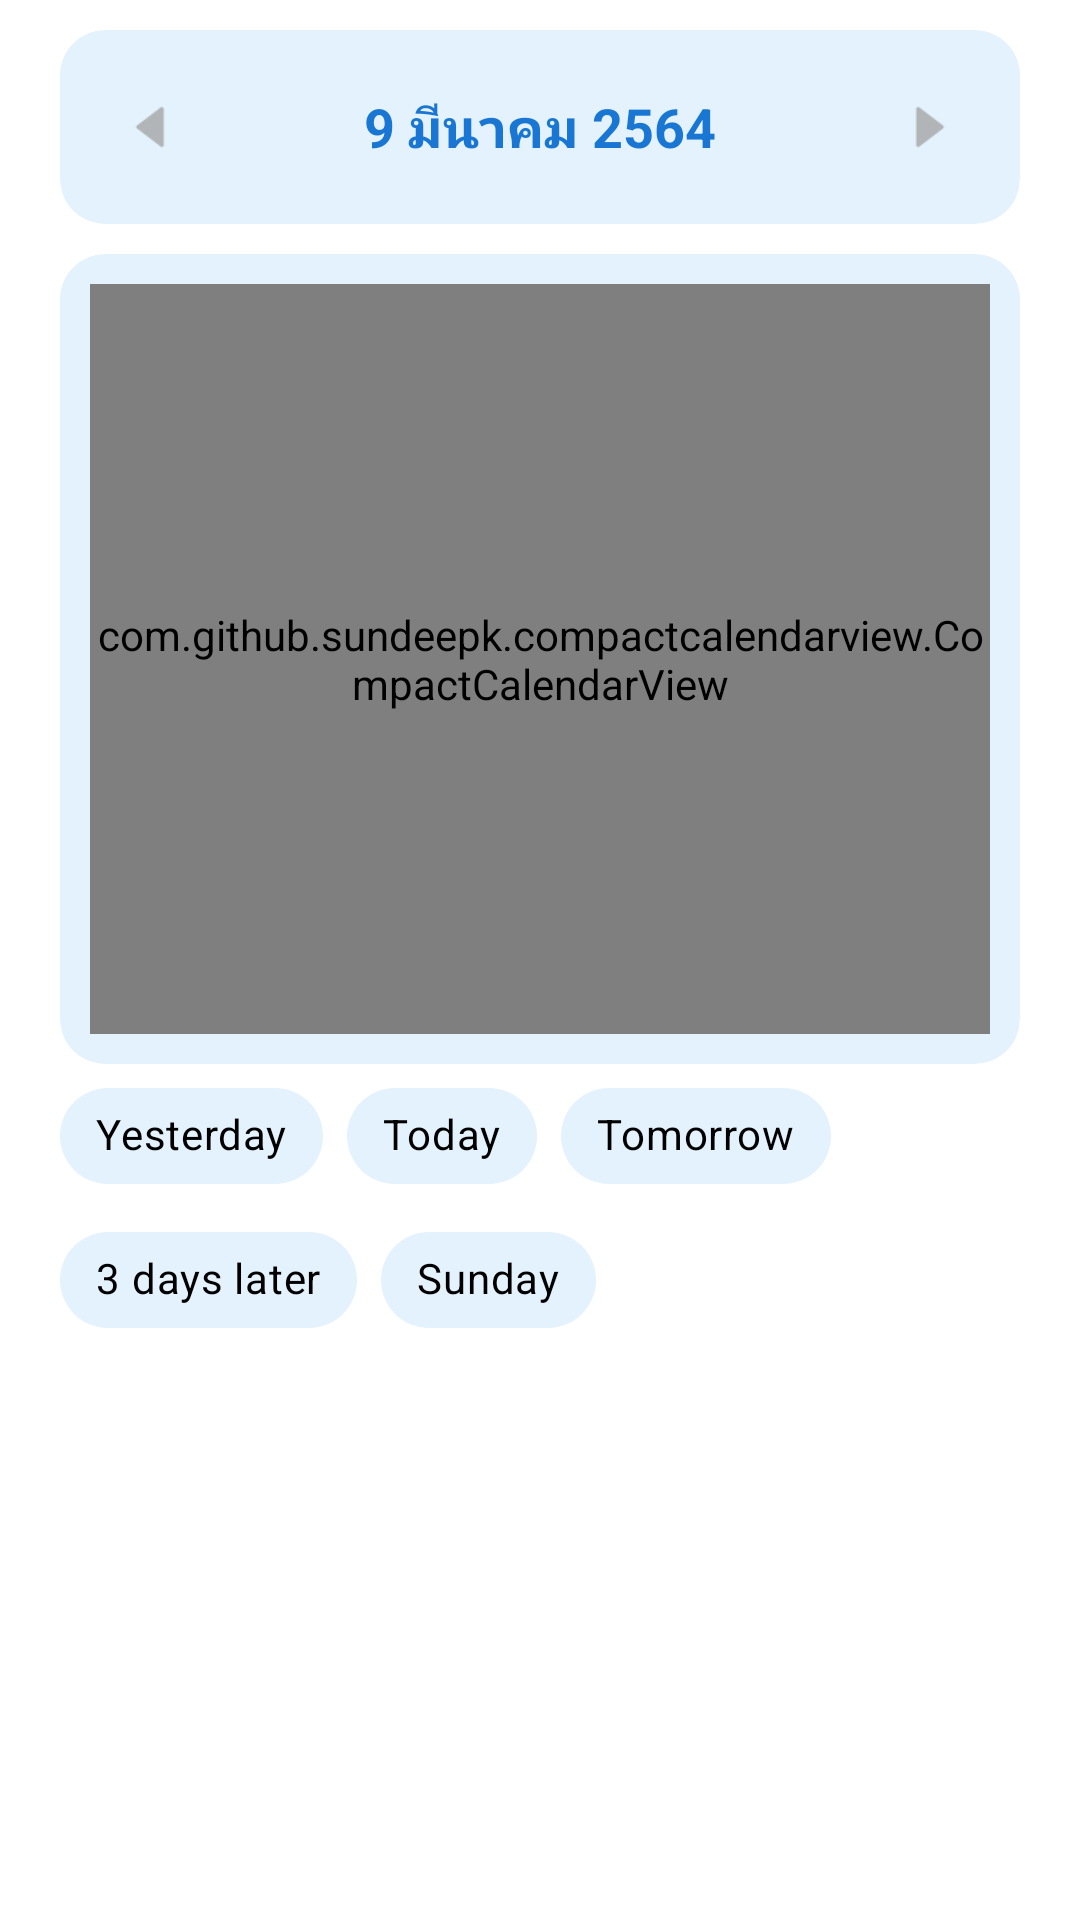

Locate icon controls on the screen. Image size 1080 × 1920, boxes as (x1, y1, x2, y2).
sort left: (136, 107, 164, 147)
sort right: (916, 107, 944, 147)
